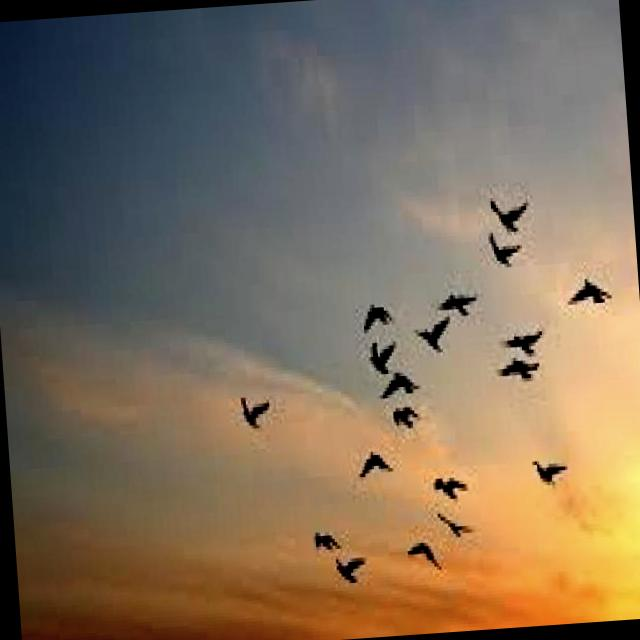bird: (526, 442, 582, 490), (429, 278, 484, 326), (354, 280, 394, 342), (416, 312, 456, 374), (486, 186, 534, 237), (347, 340, 404, 382), (355, 436, 400, 488), (492, 353, 552, 392), (369, 365, 428, 403), (567, 266, 619, 308), (234, 378, 274, 432), (408, 532, 443, 584), (432, 463, 470, 510), (328, 542, 368, 586), (486, 227, 522, 275), (385, 399, 425, 440), (300, 524, 348, 558), (494, 324, 548, 354), (433, 506, 473, 546)
